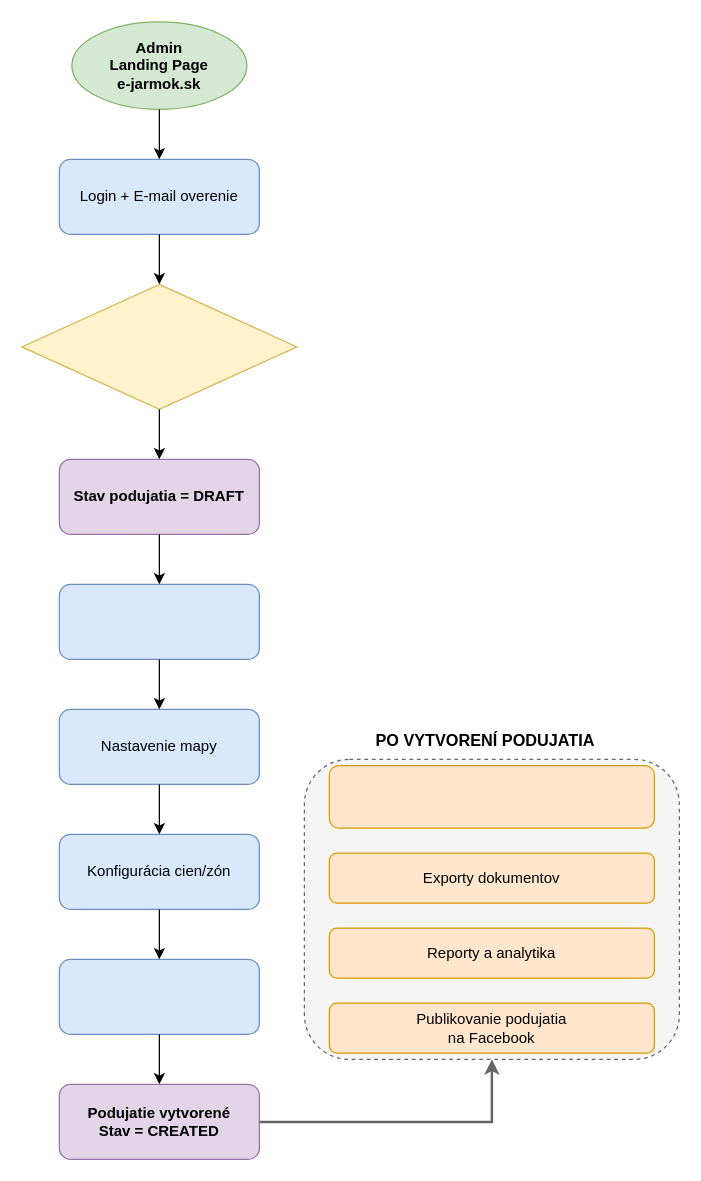
Some shapes in this 701 by 1181 pixel diagram are drawn without their labels. The box of each missing label's shape, as (x1, y1, x2, y2) in pixels:
Kontrola prekladov: (58, 958, 259, 1034)
Správa prihlášok (Review/Changes/ Approve/Cancel): (328, 764, 654, 828)
Vyplnenie detailov podujatia: (58, 583, 259, 659)
Vytvorenie nového / Skopirovanie existujúceho podujatia: (21, 283, 297, 409)
